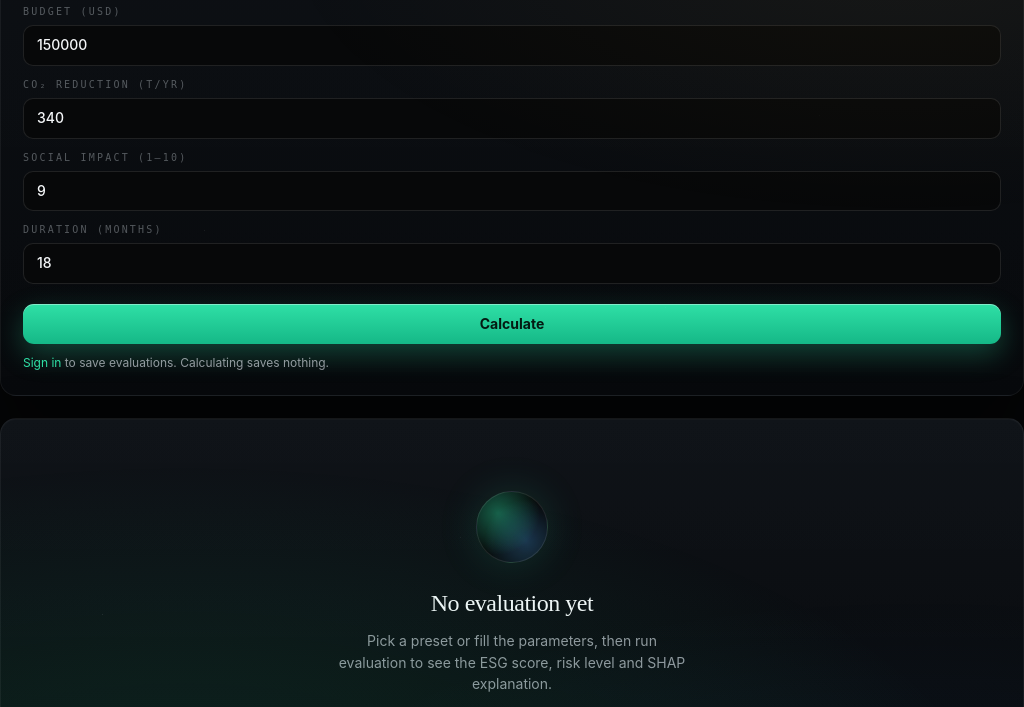
Test: EvaluatePage when the API answers with nothing › renders the score when the server actually sends one
This screenshot has width=1024, height=707.
(page scrolled)
Click the button "Calculate" at point(512, 324), box top-left (23, 304), bottom-right (1001, 344)
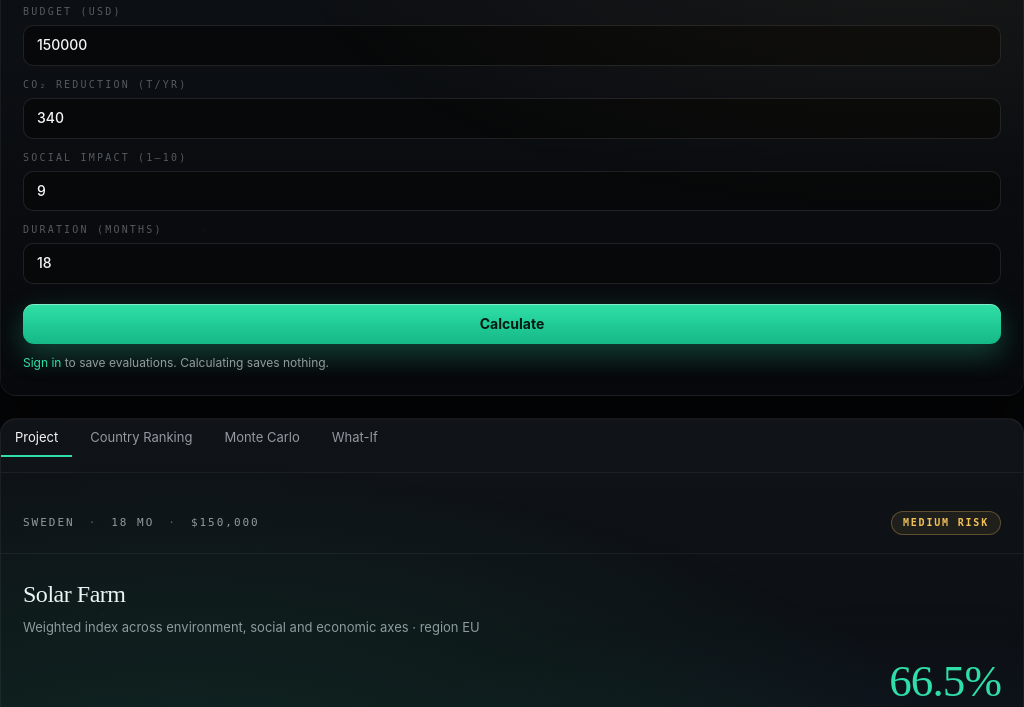
Now the heading "No evaluation yet" is gone
Now the text "Medium risk" is shown, box top-left (891, 511), bottom-right (1001, 535)
